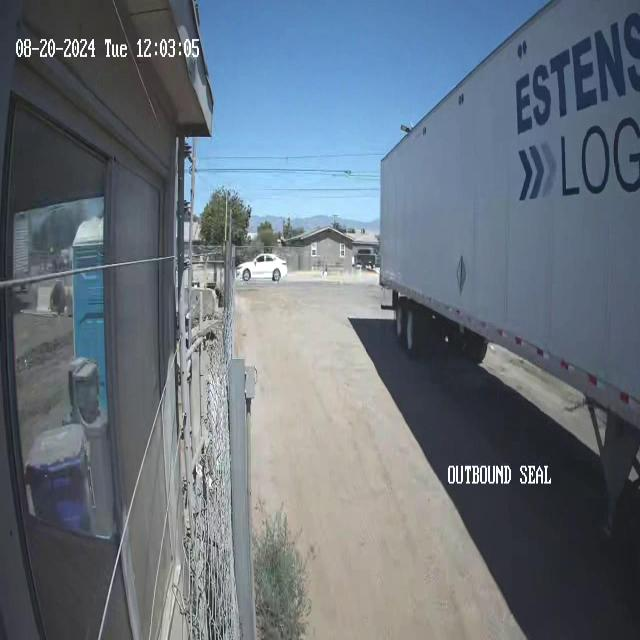TRUCK_CONTAINER: (378, 0, 640, 463)
